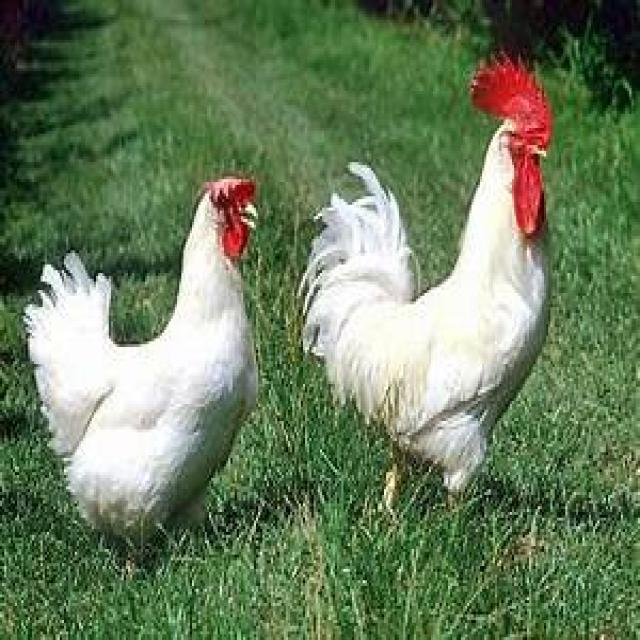hen: (299, 57, 553, 498), (23, 176, 260, 575)
